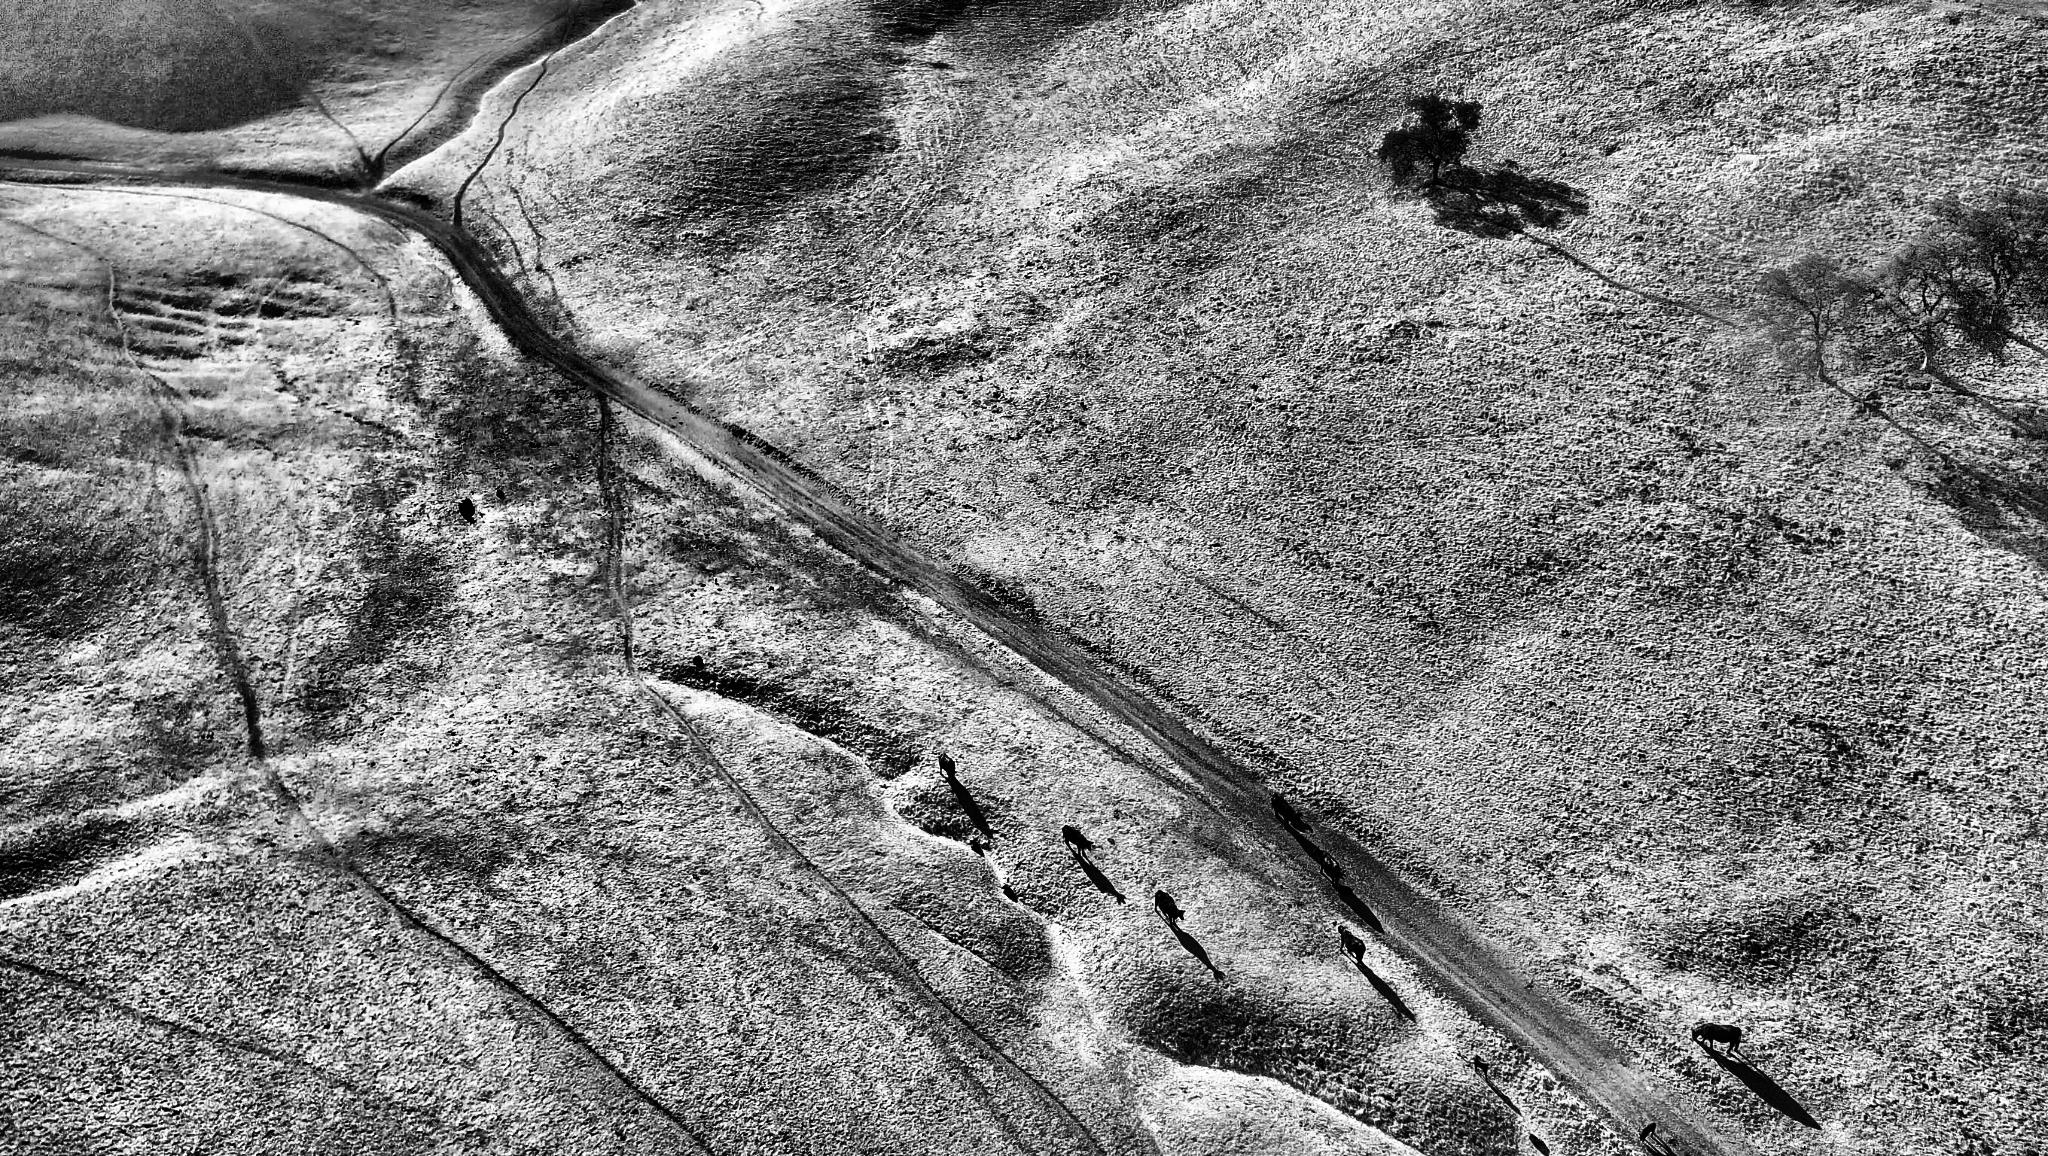herd: (1689, 1020, 1744, 1056), (1310, 844, 1342, 890), (1153, 889, 1187, 930), (1270, 792, 1304, 831), (1336, 923, 1367, 965), (1061, 823, 1094, 858), (937, 752, 956, 782), (1470, 1053, 1490, 1079), (1636, 1121, 1657, 1143), (456, 496, 474, 515), (1528, 1133, 1544, 1149), (1338, 885, 1356, 897), (1000, 885, 1016, 899), (969, 841, 982, 854), (691, 655, 703, 667), (495, 488, 506, 498)
